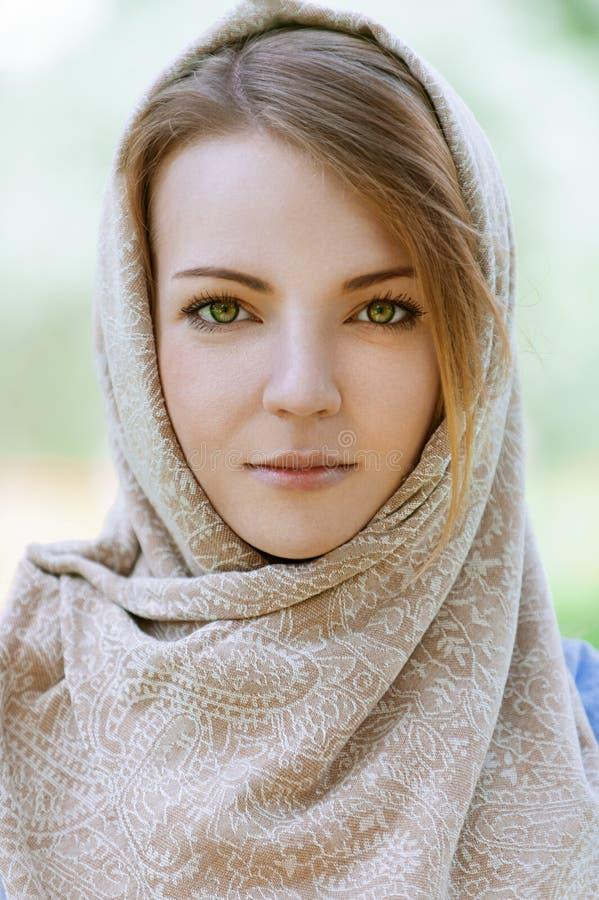scarf-kerchief: (55, 8, 568, 602)
